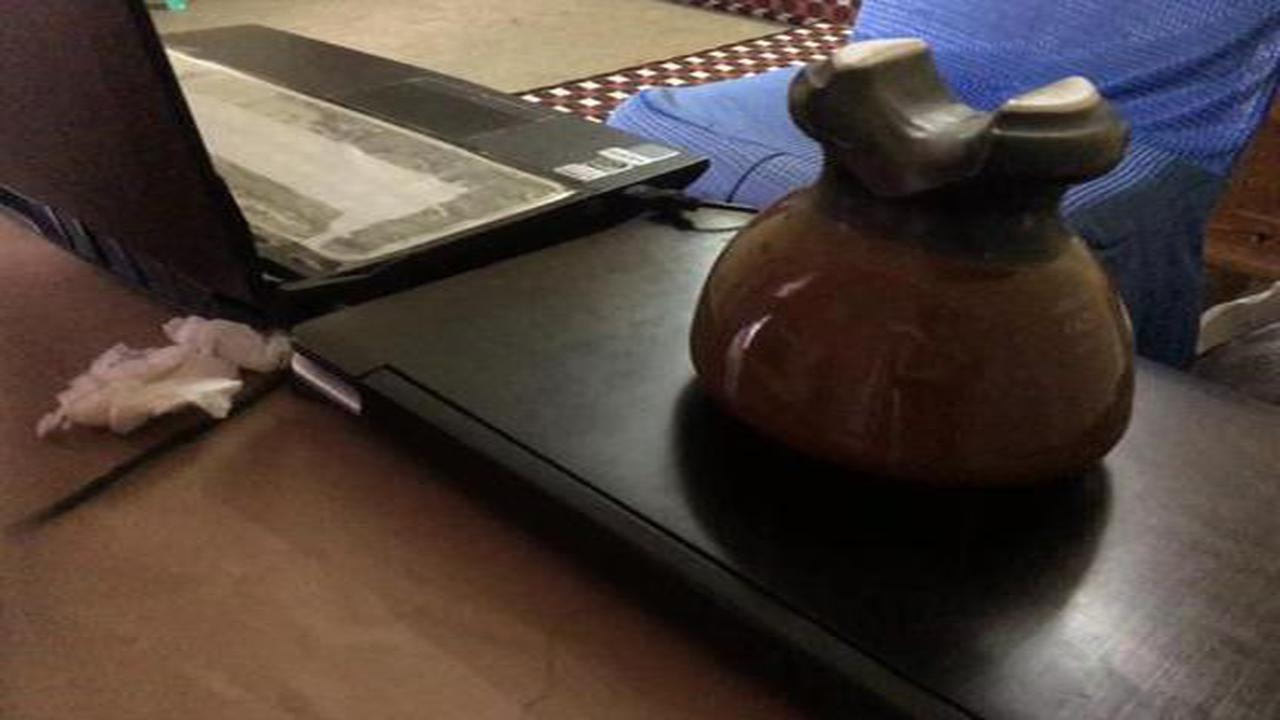insulator_pin: (674, 14, 1157, 513)
